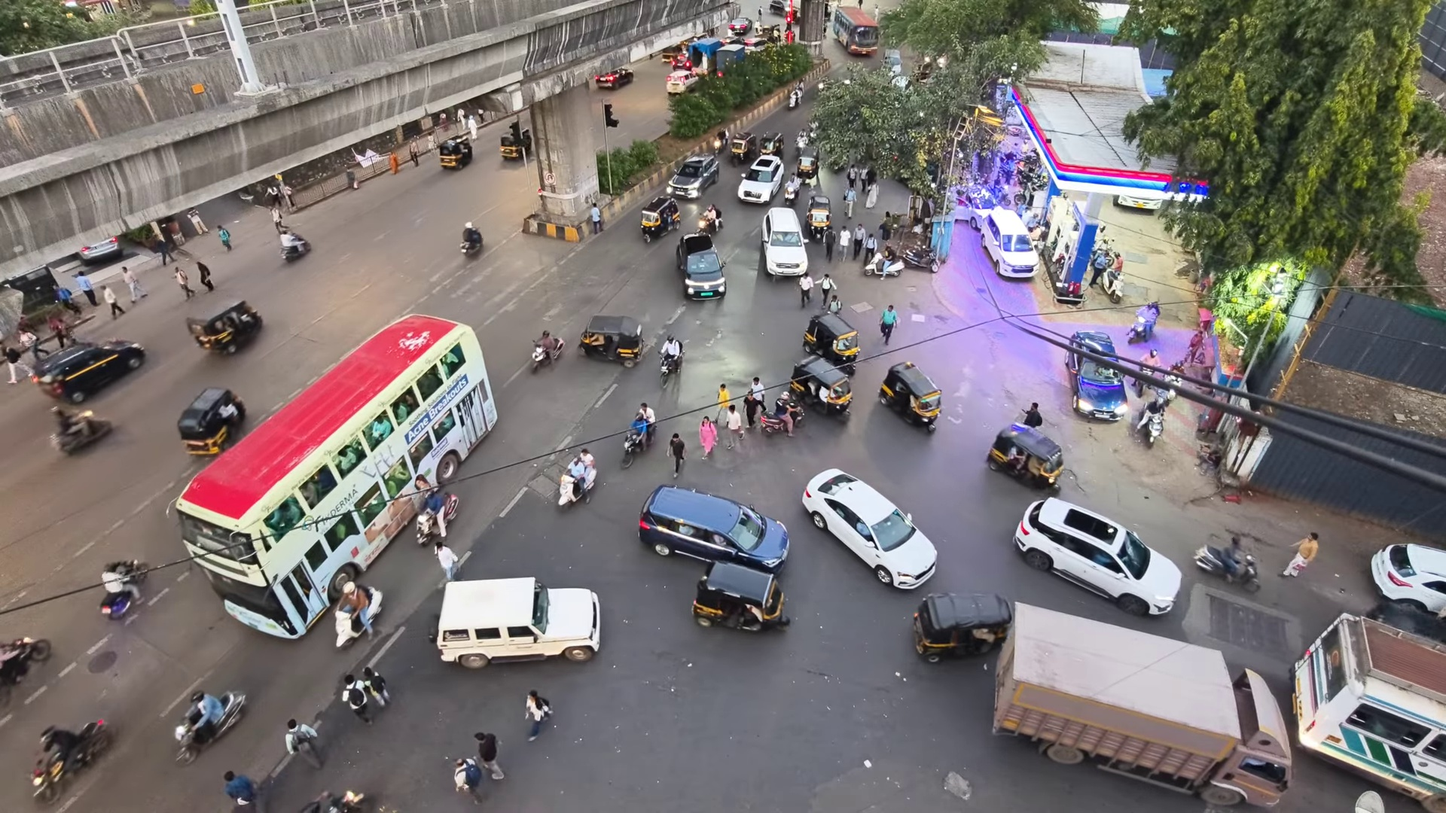driving: (1015, 497, 1181, 614), (803, 469, 936, 588), (432, 577, 599, 668), (676, 233, 726, 299), (737, 155, 782, 202)
walking: (338, 581, 374, 636), (285, 719, 322, 769), (223, 771, 264, 812), (1281, 532, 1318, 576), (341, 674, 371, 724), (474, 732, 504, 778), (525, 690, 551, 741), (454, 758, 482, 803), (362, 666, 389, 707), (4, 347, 33, 384), (17, 329, 49, 361), (121, 266, 147, 303), (435, 540, 458, 581), (75, 270, 97, 306), (47, 312, 69, 348), (822, 225, 837, 276), (56, 285, 81, 315), (102, 285, 124, 318), (669, 433, 685, 478), (699, 416, 716, 458), (727, 404, 743, 448), (818, 273, 837, 309), (880, 305, 897, 344), (175, 265, 194, 299), (715, 383, 731, 419), (155, 237, 174, 266), (187, 207, 208, 233), (852, 223, 866, 260), (197, 262, 214, 291), (798, 275, 813, 307), (1023, 402, 1042, 427), (838, 225, 851, 258), (843, 184, 856, 216), (863, 234, 877, 263), (878, 211, 891, 242), (590, 203, 602, 233), (865, 183, 878, 209), (218, 227, 232, 251), (282, 184, 294, 209), (271, 206, 282, 233), (863, 166, 877, 187), (827, 294, 841, 314), (409, 139, 419, 166), (847, 165, 858, 189)
